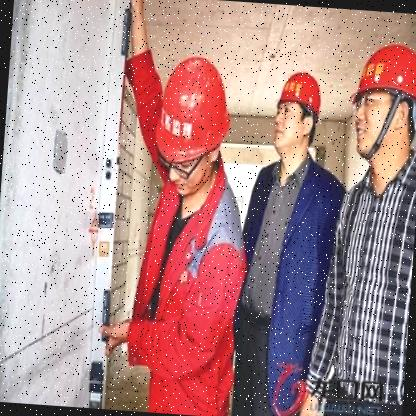capacete: (149, 48, 237, 203), (343, 32, 415, 167), (270, 66, 324, 162)
sem_colete_refletivo: (122, 172, 254, 406), (315, 157, 415, 410), (232, 157, 344, 351)
